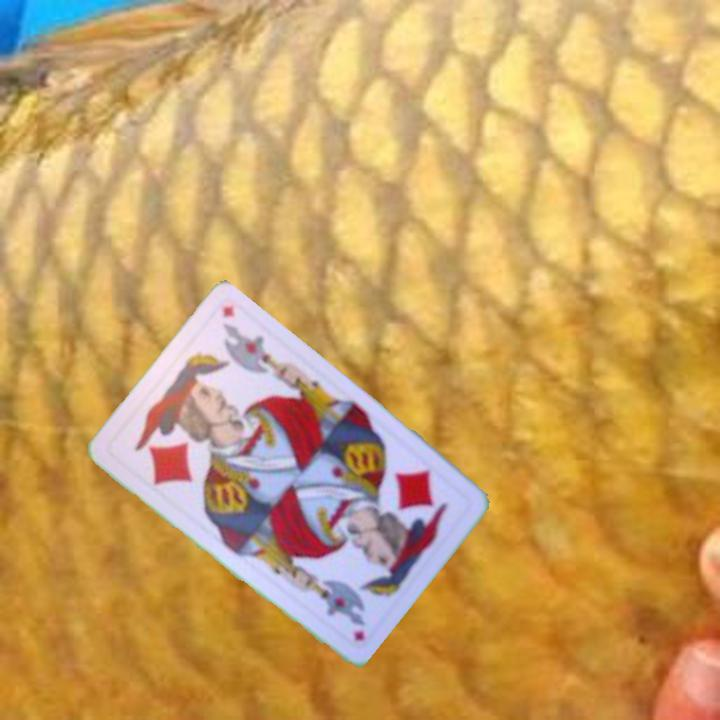d_j.png: (104, 373, 232, 502), (347, 447, 474, 577)
